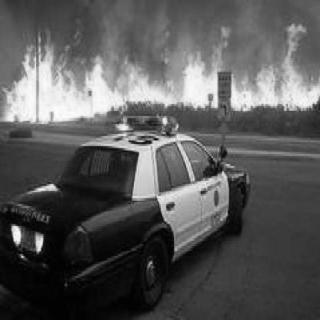Fire: (6, 37, 316, 126)
